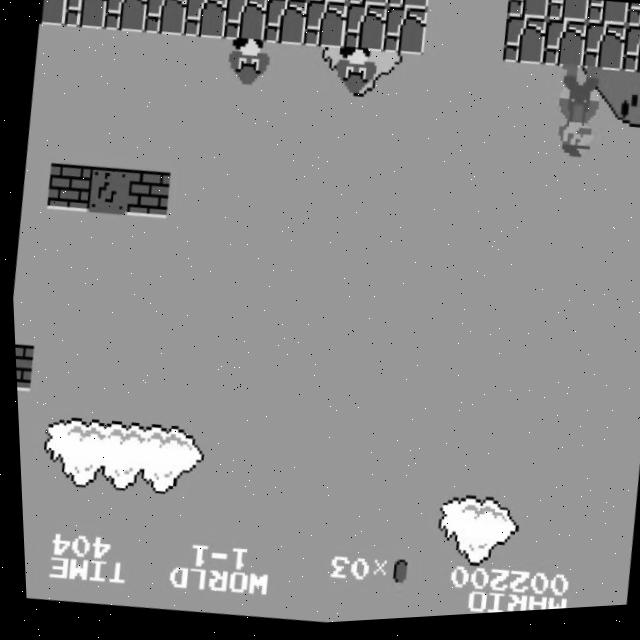0- big_mario: (548, 69, 608, 170)
1- brick_block: (122, 169, 171, 223), (43, 162, 92, 215), (12, 343, 33, 393)
13- mystery_block: (82, 165, 131, 218)
17- undestructible_block: (340, 5, 389, 59), (579, 28, 628, 81), (539, 24, 588, 77), (500, 20, 548, 73), (381, 9, 429, 62), (301, 2, 349, 55), (261, 0, 310, 51), (221, 0, 270, 47), (181, 0, 230, 44), (141, 0, 190, 39), (102, 0, 150, 36), (62, 0, 110, 32), (585, 5, 630, 35), (545, 2, 590, 32), (505, 0, 550, 28), (619, 32, 640, 84), (38, 0, 71, 28), (386, 0, 431, 17), (346, 0, 391, 13), (624, 10, 640, 39), (306, 0, 351, 9), (266, 0, 311, 6), (227, 0, 271, 1)
8- goomba: (331, 47, 382, 105), (224, 37, 275, 95)
